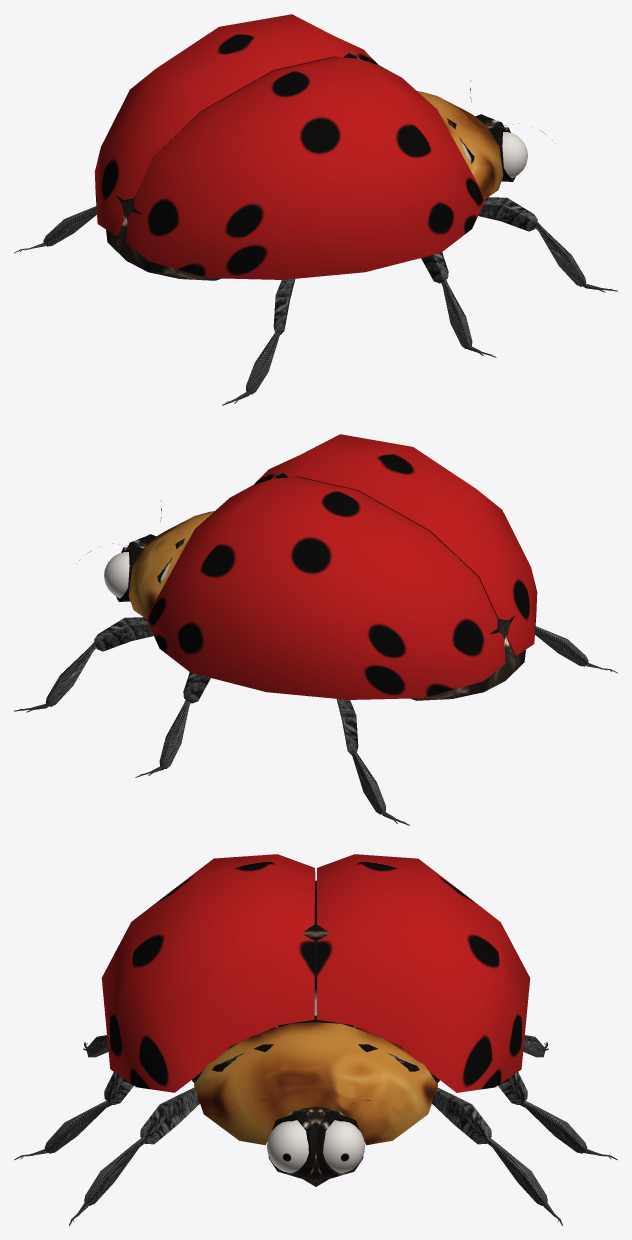
File: ladybug.fbx
3 views of the same model, one above another, from view 1: azimuth 30°, elevation 25°; view 2: azimuth 150°, elevation 25°; view 3: azimuth 270°, elevation 25° (orthographic). The views are drawn at different scales.
Visible parts, largest first — view 1: Sphere02, Sphere01, Sphere03, 对象07, Box01, Box02, Sphere08, Box15, Box08, Box03, Box04, Box14; view 2: Sphere01, Sphere02, Sphere03, 对象07, Box12, Box11, Sphere07, Box16, Box03, Box08, Box07, Box17; view 3: Sphere01, Sphere02, Sphere03, 对象07, Sphere08, Sphere07, Box12, Box01, Box11, Box02, Box16, Box15 (+2 smaller).
Boxes of the visible parts, x1,y1,x2,y2 form: Sphere02: (126,57,485,279); Sphere01: (94,14,378,235); Sphere03: (417,91,503,197); 对象07: (106,52,515,280); Box01: (478,197,537,231); Box02: (535,222,586,286); Sphere08: (502,132,527,178); Box15: (441,280,472,348); Box08: (43,206,96,246); Box03: (246,332,280,394); Box04: (273,279,295,334); Box14: (421,252,448,283); Sphere01: (146,477,505,699); Sphere02: (254,434,537,655); Sphere03: (128,511,214,617); 对象07: (116,472,525,700); Box12: (94,617,153,651); Box11: (45,642,96,706); Sphere07: (104,552,129,598); Box16: (159,700,190,768); Box03: (535,626,588,666); Box08: (351,752,385,814); Box07: (336,699,358,754); Box17: (183,672,210,703); Sphere01: (317,854,530,1092); Sphere02: (101,854,315,1092); Sphere03: (194,1022,437,1145); 对象07: (192,880,439,1186); Sphere08: (266,1120,308,1172); Sphere07: (323,1120,365,1172); Box12: (432,1087,491,1144); Box01: (140,1087,199,1144); Box11: (485,1137,547,1205); Box02: (84,1137,146,1205); Box16: (519,1100,587,1153); Box15: (44,1100,112,1153).
Size of the model in its own units: 12.02 by 6.81 by 14.2.
Materials: 10 (8 with a texture image).
